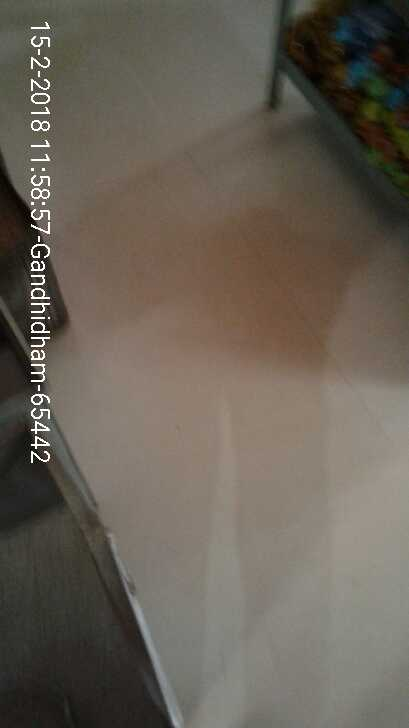reject: (188, 306, 263, 397)
